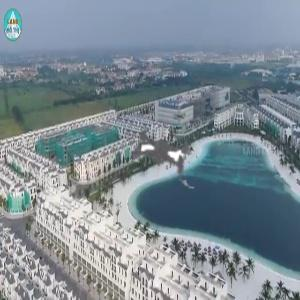drone: (88, 79, 231, 222)
